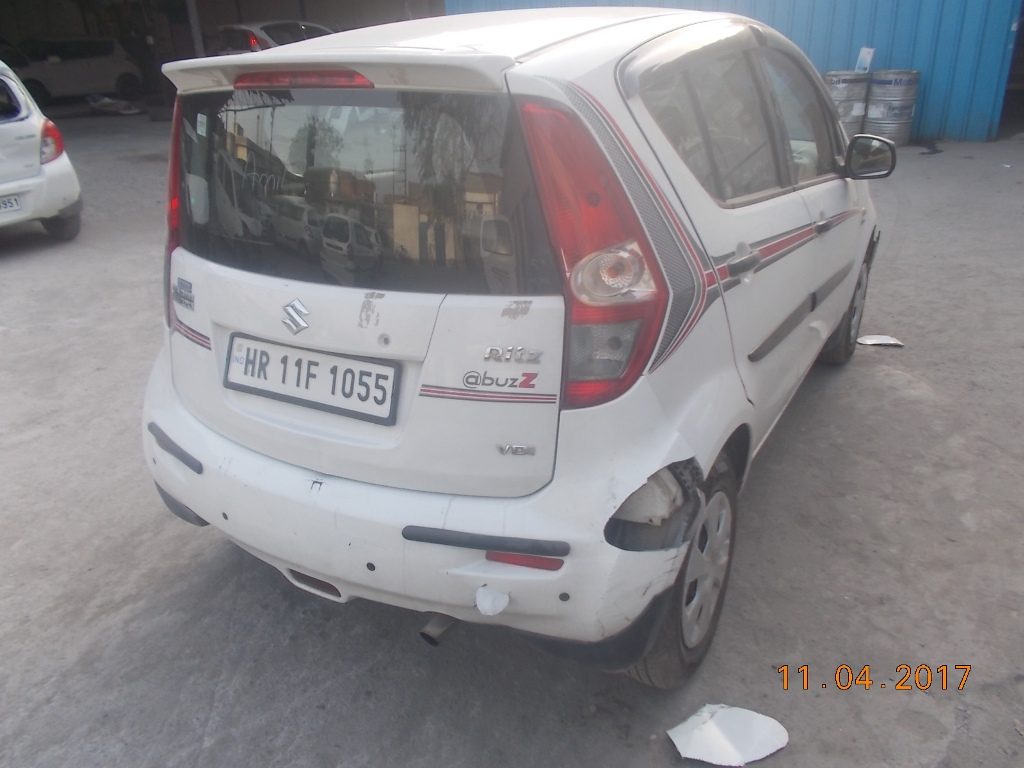Tear: (588, 515, 696, 573)
